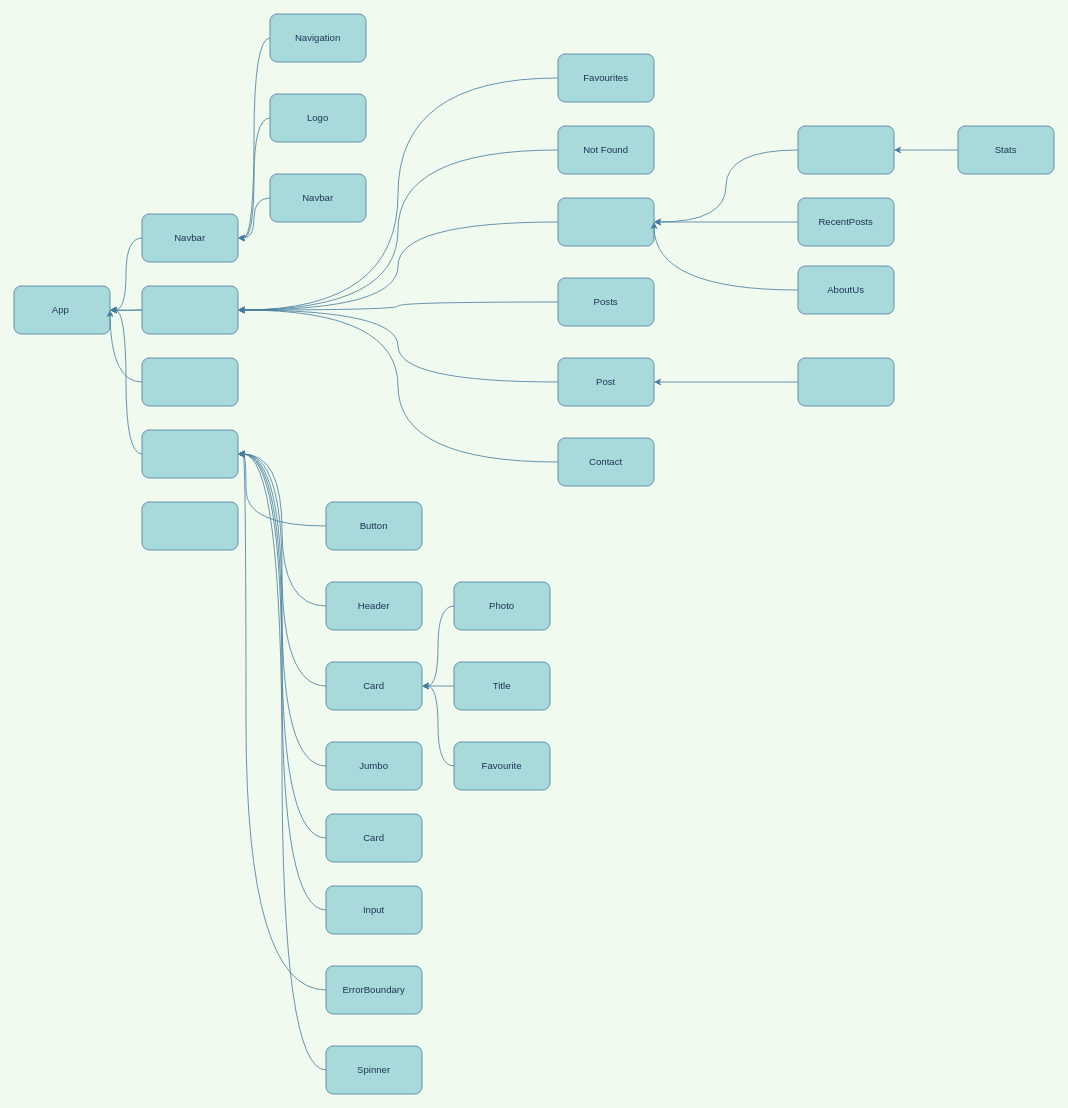
Some shapes in this 1068 by 1108 pixel diagram are drawn without their labels. The shapes that lost their labels are listed below. From the top down, each one's box as (x1, y1, x2, y2) in pixels, then its label:
(797, 125, 894, 174): PopularPosts
(557, 197, 654, 246): Home
(141, 285, 238, 334): Pages
(141, 357, 238, 406): Footer
(797, 357, 894, 406): Comments
(141, 429, 238, 478): UI
(141, 501, 238, 550): Utils
